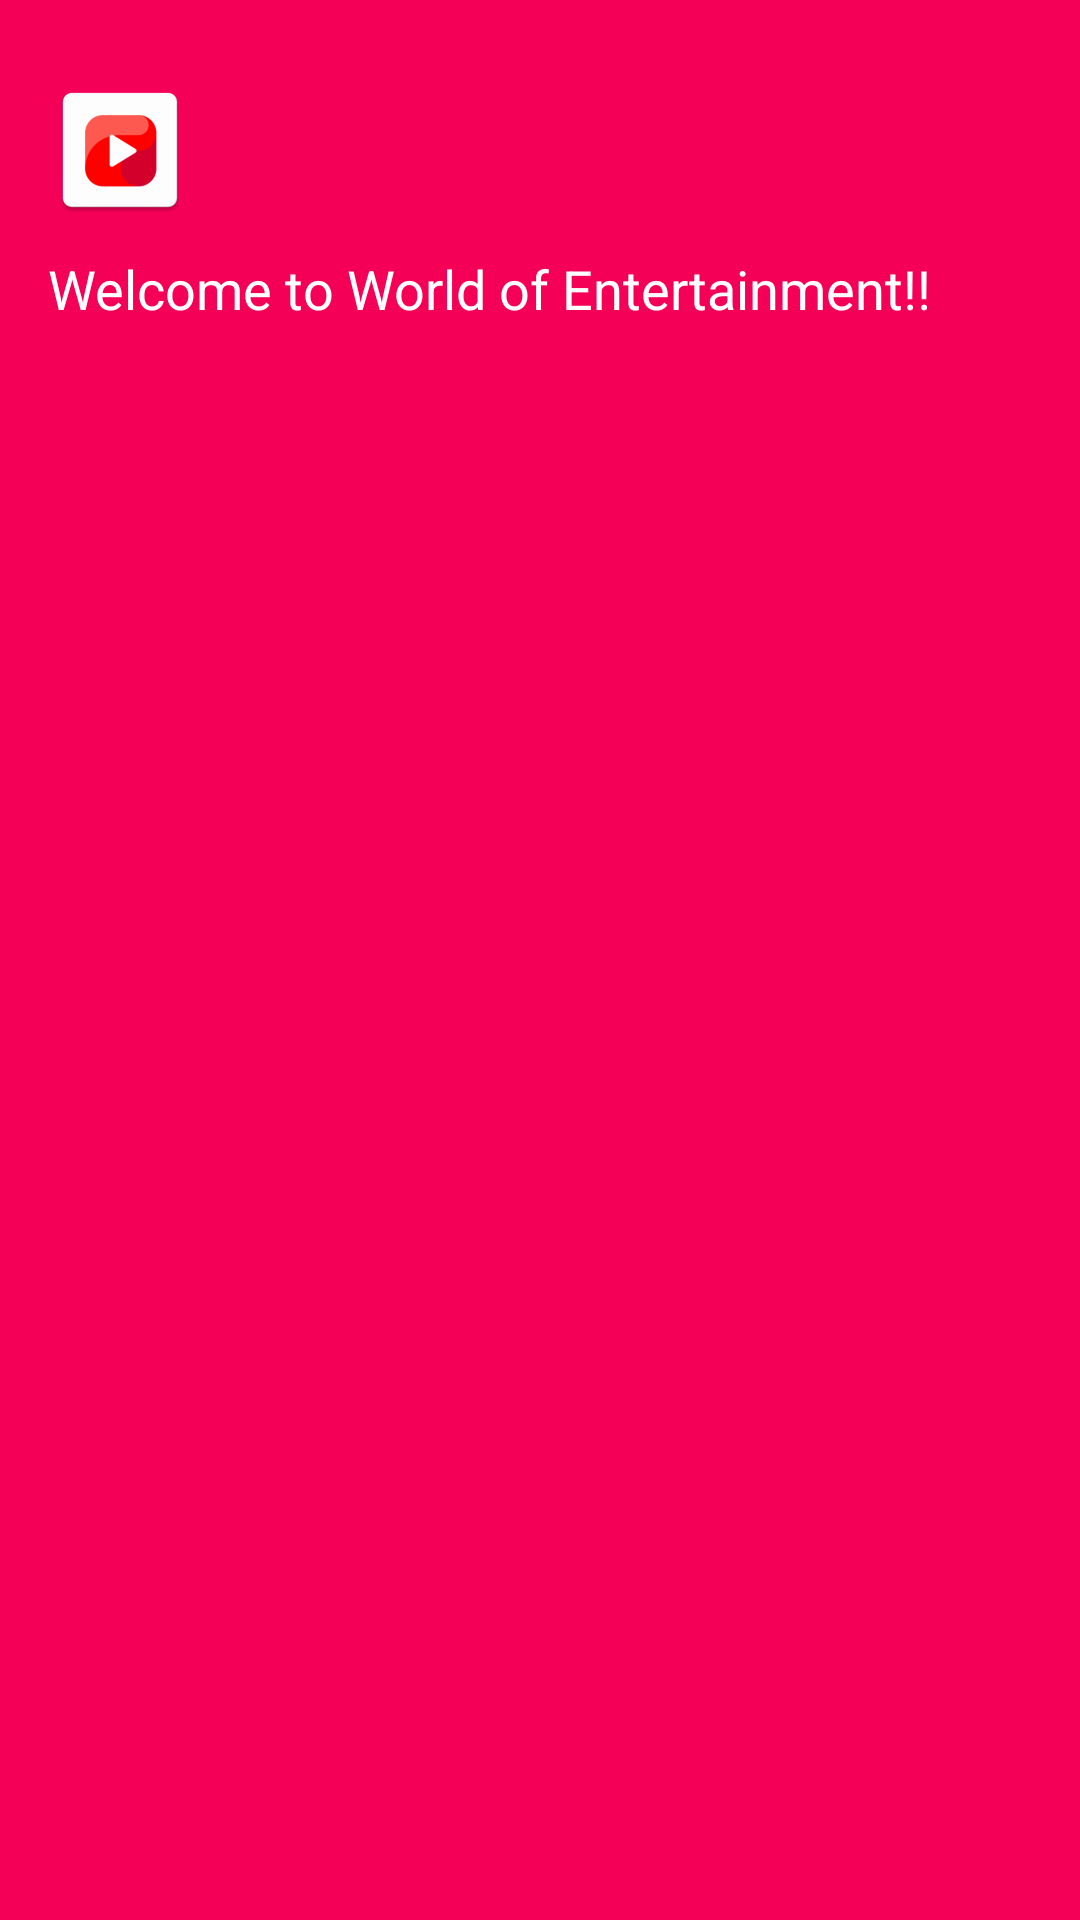

Locate icon controls on the screen. Image size 1080 x 1920, boxes as [x1,y1,x2,y2].
video player: [62,92,178,211]
